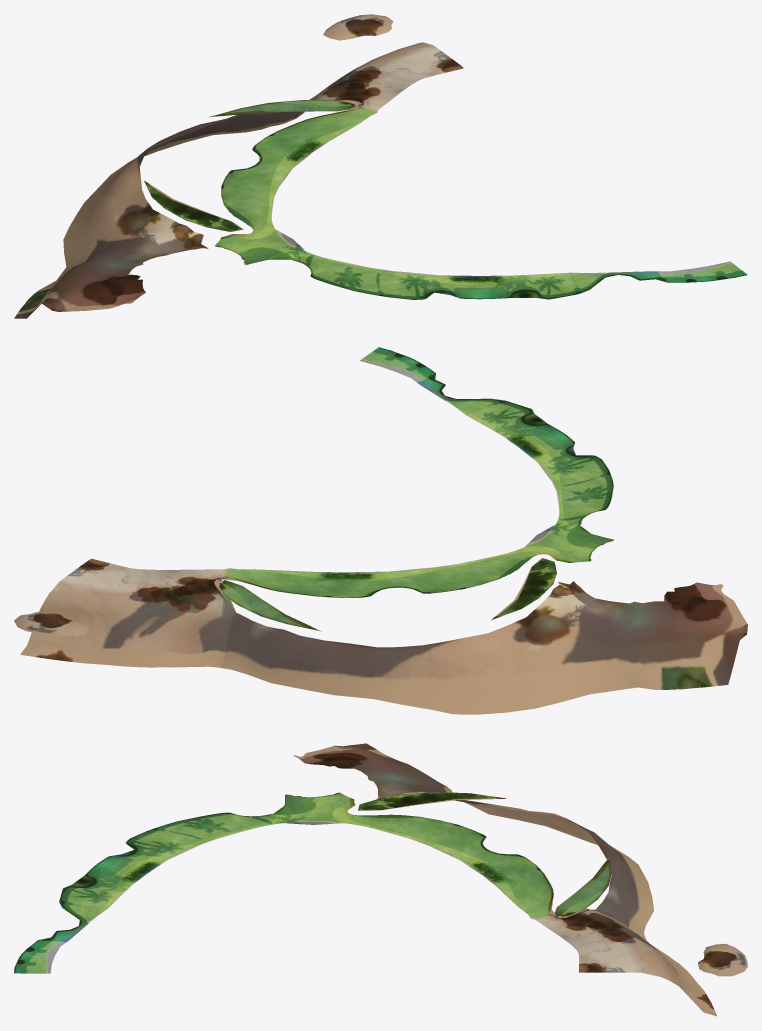
File: pref_sm_beach_techsmall_001_bk_outer_R_lv2.fbx
The picture shows the model from 3 angles, top to bottom: view 1: azimuth 30°, elevation 25°; view 2: azimuth 150°, elevation 25°; view 3: azimuth 270°, elevation 25°; orthographic projection. The views are drawn at different scales.
Parts seen in each view (by area): view 1: pref_sm_beach_techsmall_001_bk_outer_R_lv2; view 2: pref_sm_beach_techsmall_001_bk_outer_R_lv2; view 3: pref_sm_beach_techsmall_001_bk_outer_R_lv2.
Part boxes in pixels (left/top/right/bottom): pref_sm_beach_techsmall_001_bk_outer_R_lv2: left=14, top=14, right=747, bottom=318; pref_sm_beach_techsmall_001_bk_outer_R_lv2: left=14, top=347, right=747, bottom=714; pref_sm_beach_techsmall_001_bk_outer_R_lv2: left=14, top=743, right=747, bottom=1016.
Bounding box in the file's own units: 81.9 × 8.47 × 96.65.
